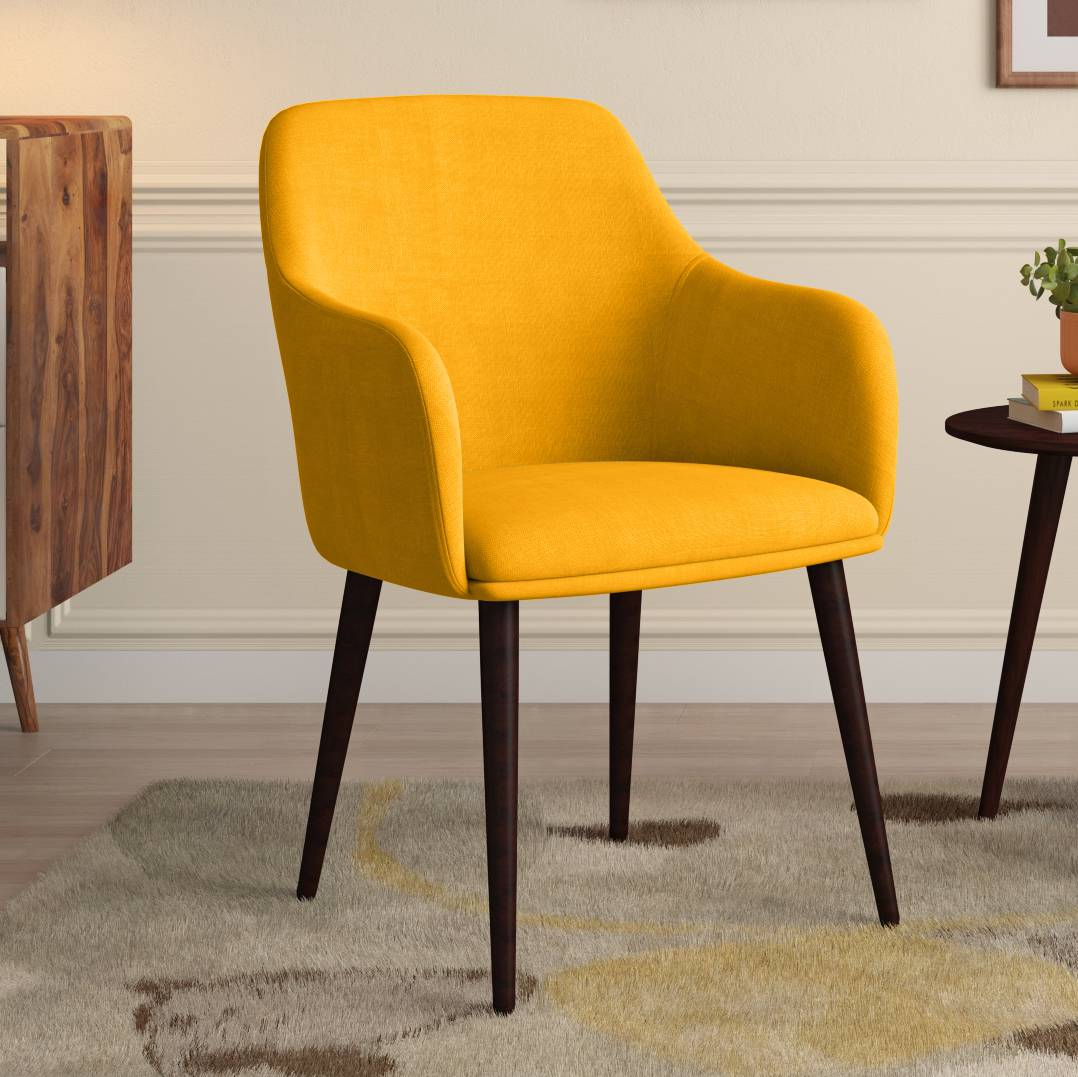chair: (259, 99, 943, 1000)
